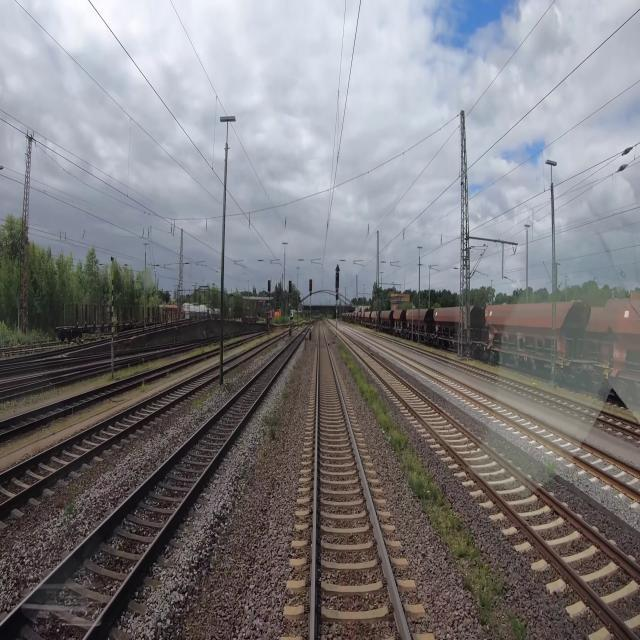Plant: (337, 345, 509, 625), (261, 408, 283, 458), (506, 607, 528, 639), (194, 382, 219, 408), (544, 456, 558, 478), (65, 495, 76, 517), (281, 385, 288, 406), (140, 381, 146, 393)
